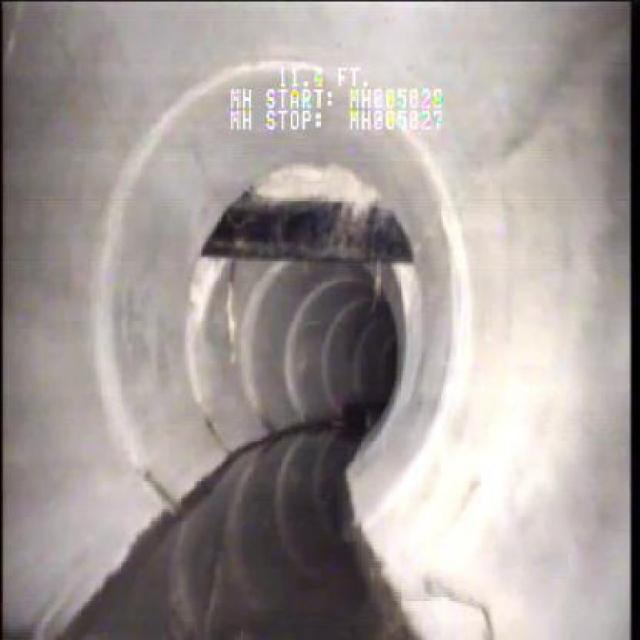Crack: (402, 570, 500, 638)
Utility intrusion: (197, 186, 420, 269)
